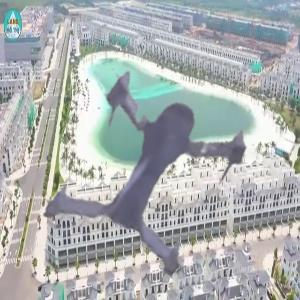drone: (36, 27, 285, 276)
